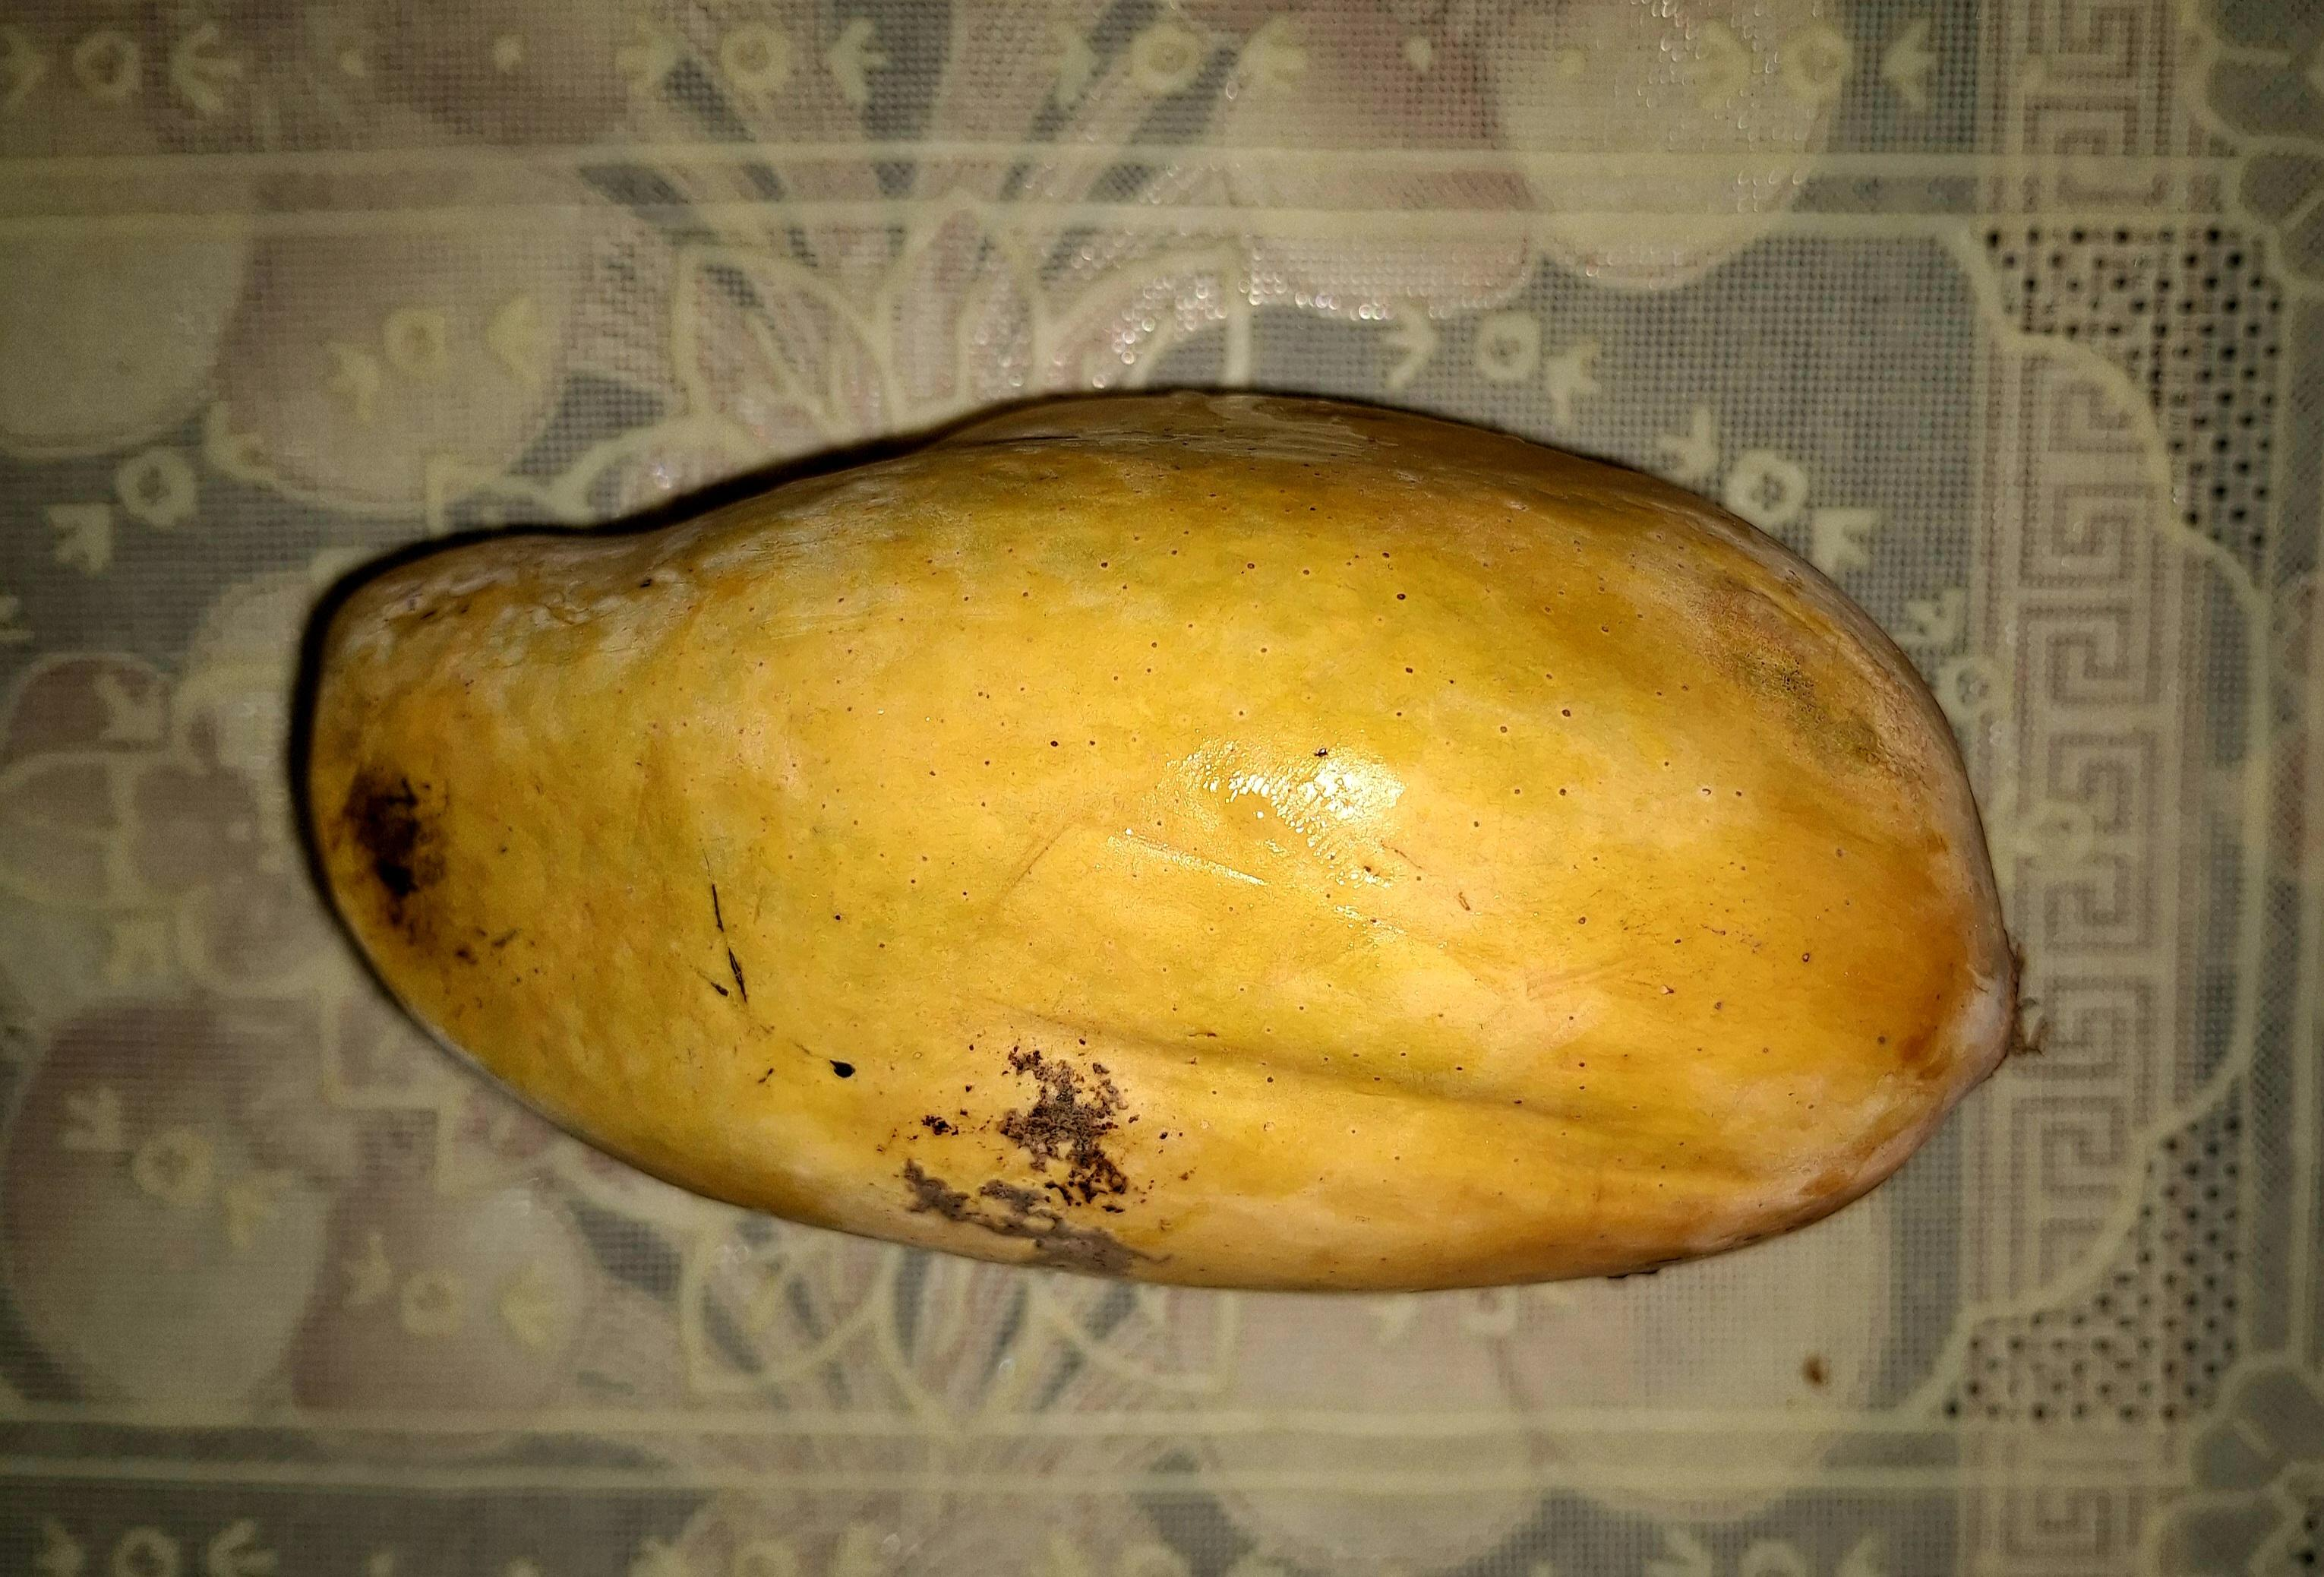mango: (296, 387, 2025, 1294)
